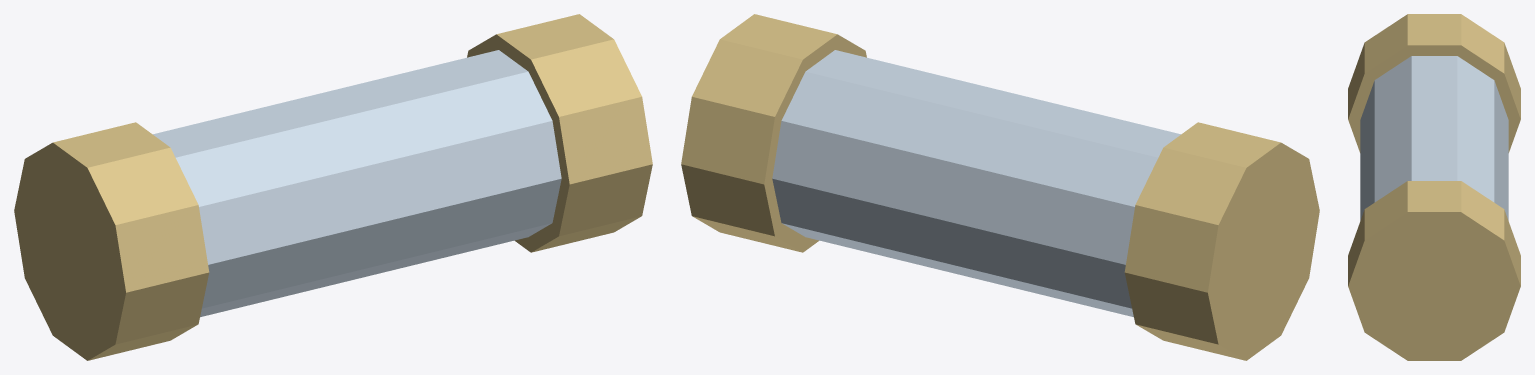
The model's file is fuse.fbx.
3 renders of one model, left to right at view 1: azimuth 30°, elevation 25°; view 2: azimuth 150°, elevation 25°; view 3: azimuth 270°, elevation 25°, orthographic. The views are drawn at different scales.
Parts seen in each view (by area): view 1: Fuse; view 2: Fuse; view 3: Fuse.
Boxes of the visible parts, left/top/right/bottom form: Fuse: left=14, top=14, right=652, bottom=360; Fuse: left=681, top=14, right=1319, bottom=360; Fuse: left=1348, top=14, right=1520, bottom=360.
Bounding box in the file's own units: 0.076 × 0.0266 × 0.028.
